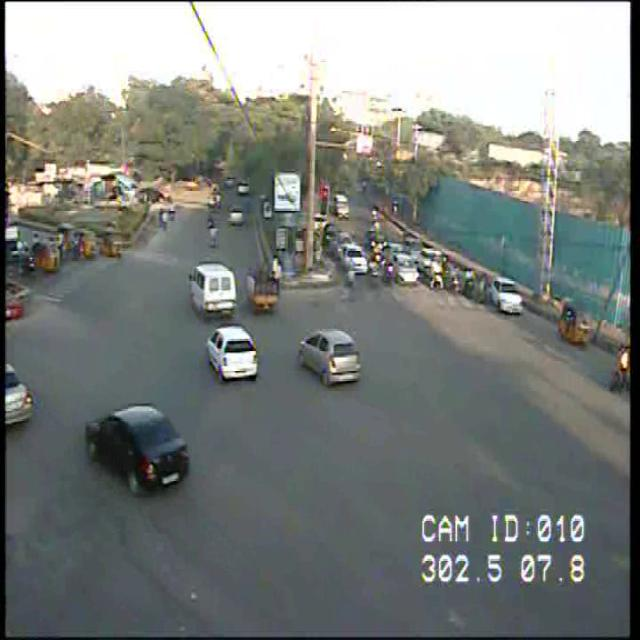noaccident: (90, 114, 616, 601)
